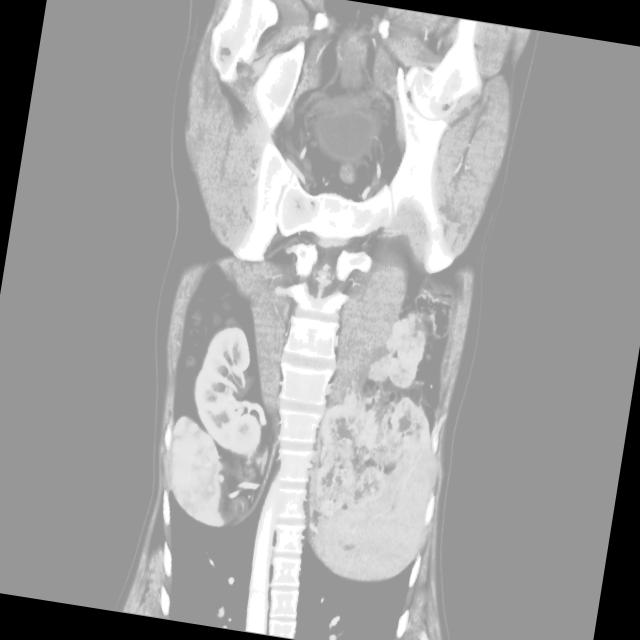TUMOR: (109, 169, 518, 491)
